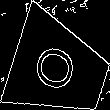O_E: (32, 40, 87, 98)
